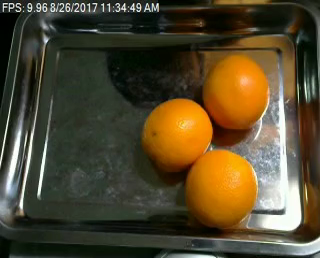Orange: (186, 148, 258, 228), (141, 98, 213, 169), (203, 54, 271, 129)
